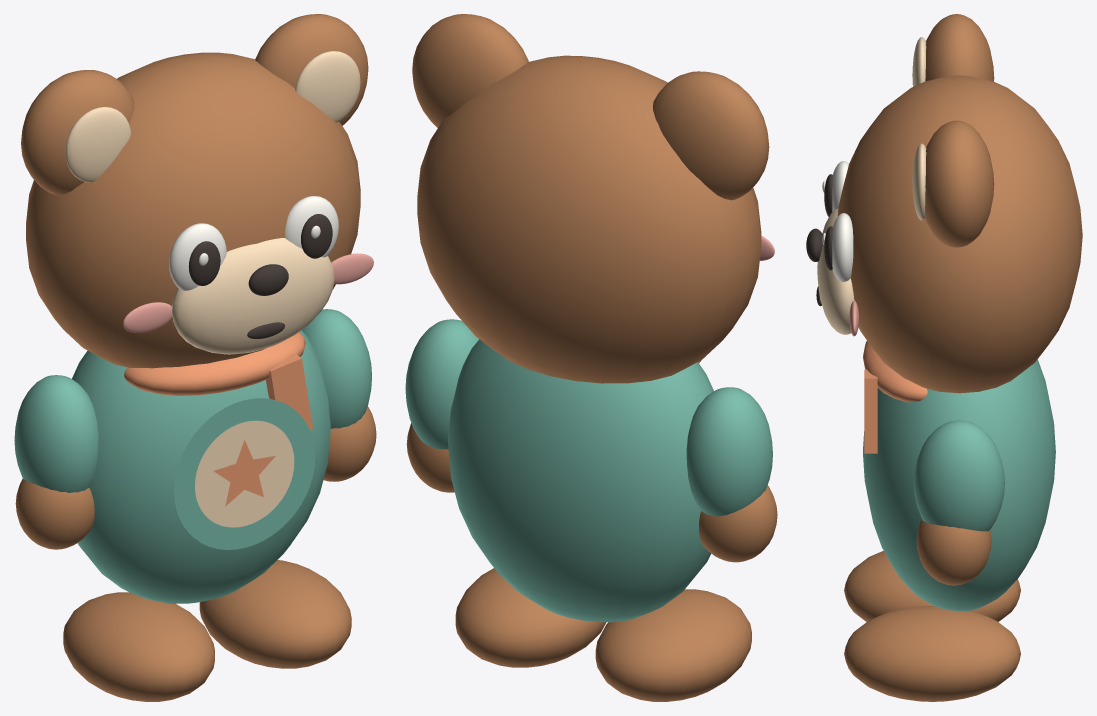
Rendered from idle.glb.
3 renders of one model, left to right at view 1: azimuth 30°, elevation 25°; view 2: azimuth 150°, elevation 25°; view 3: azimuth 270°, elevation 25°, orthographic. The views are drawn at different scales.
Visible parts, largest first — view 1: HeadShape, Body, StarBadge, FootL, Muzzle, FootR, Sleeve-1, Ear-1, Sleeve1, ScarfBand, Ear1, Hand-1 (+11 smaller); view 2: HeadShape, Body, FootL, Ear-1, Sleeve-1, FootR, Ear1, Sleeve1, Hand-1, Hand1; view 3: HeadShape, Body, FootR, Sleeve1, Ear1, FootL, Hand1, Ear-1, Muzzle, ScarfBand, EyeWhite1, ScarfTail (+4 smaller).
Boxes of the visible parts, <box> form: HeadShape: <box>26,52,360,368</box>; Body: <box>72,330,330,603</box>; StarBadge: <box>174,398,315,549</box>; FootL: <box>63,592,214,701</box>; Muzzle: <box>171,238,334,354</box>; FootR: <box>199,560,351,668</box>; Sleeve-1: <box>14,375,98,492</box>; Ear-1: <box>21,70,134,195</box>; Sleeve1: <box>302,309,371,428</box>; ScarfBand: <box>124,332,305,395</box>; Ear1: <box>255,14,368,125</box>; Hand-1: <box>15,478,94,549</box>; HeadShape: <box>417,55,761,383</box>; Body: <box>448,339,713,622</box>; FootL: <box>595,589,751,701</box>; Ear-1: <box>653,71,769,200</box>; Sleeve-1: <box>686,387,772,516</box>; FootR: <box>455,568,606,667</box>; Ear1: <box>412,14,528,127</box>; Sleeve1: <box>405,319,479,449</box>; Hand-1: <box>699,485,777,562</box>; Hand1: <box>406,423,454,492</box>; HeadShape: <box>837,75,1082,393</box>; Body: <box>863,359,1055,611</box>; FootR: <box>844,606,1020,701</box>; Sleeve1: <box>913,420,1004,531</box>; Ear1: <box>925,120,994,247</box>; FootL: <box>844,551,1020,621</box>; Hand1: <box>916,518,991,585</box>; Ear-1: <box>925,14,994,81</box>; Muzzle: <box>817,208,858,334</box>; ScarfBand: <box>863,341,927,402</box>; EyeWhite1: <box>832,213,853,282</box>; ScarfTail: <box>864,369,877,453</box>.
Size of the model in its own units: 1.44 by 2.42 by 1.03.
8 materials, 1 textured.
